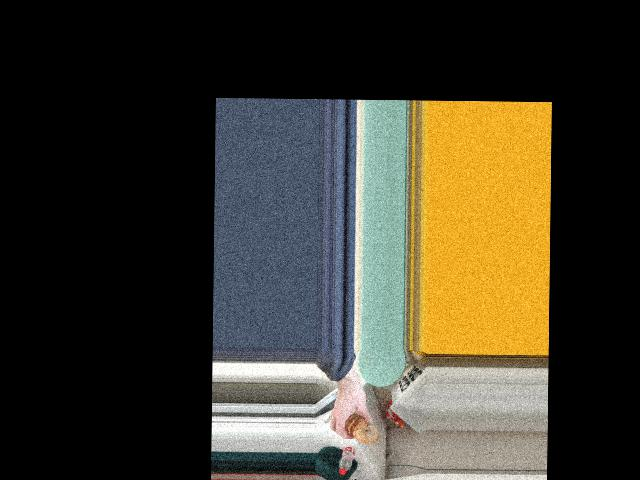sweet_potato: (347, 414, 378, 445)
